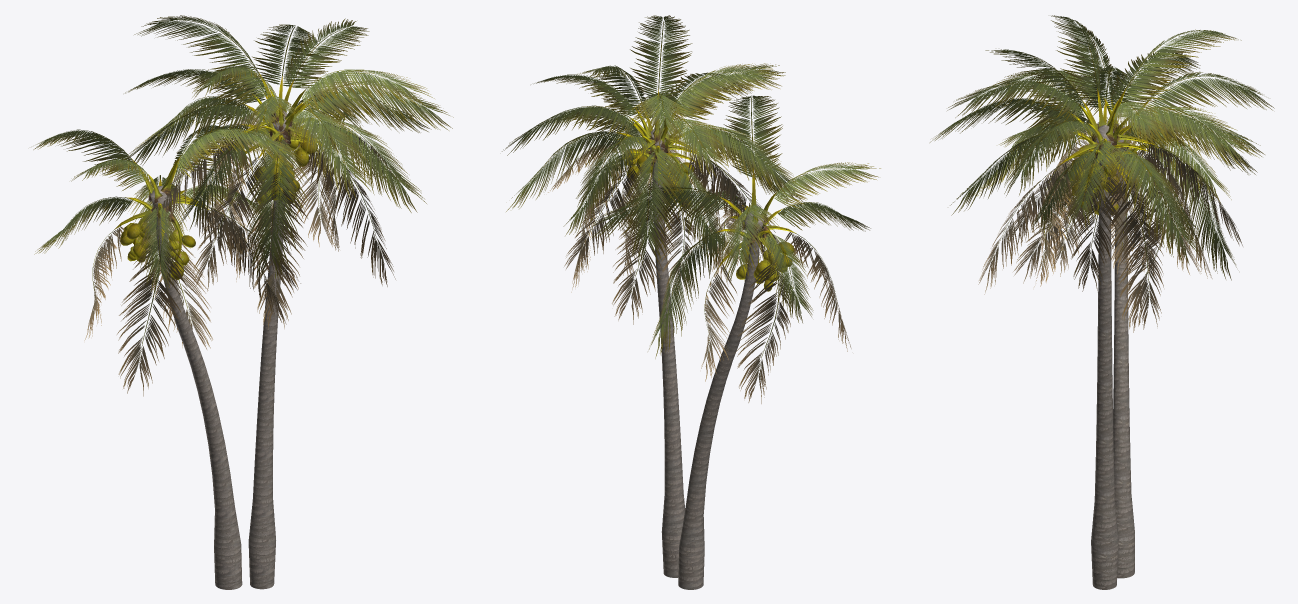
Rendered from coconutpalm.fbx.
3 renders of one model, left to right at view 1: azimuth 30°, elevation 25°; view 2: azimuth 150°, elevation 25°; view 3: azimuth 270°, elevation 25°, orthographic. The views are drawn at different scales.
Visible parts, largest first — view 1: coconut palm leaf 1_3, coconut palm leaf 2_4, palm02_0, frond stem_1, coconut 2_2; view 2: coconut palm leaf 1_3, coconut palm leaf 2_4, palm02_0, frond stem_1, coconut 2_2; view 3: coconut palm leaf 1_3, coconut palm leaf 2_4, palm02_0, frond stem_1, coconut 2_2.
Boxes of the visible parts, x1,y1,x2,y2 form: coconut palm leaf 1_3: (33,15,453,292); coconut palm leaf 2_4: (84,113,412,396); palm02_0: (150,110,287,589); frond stem_1: (114,73,326,260); coconut 2_2: (120,129,317,279); coconut palm leaf 1_3: (502,15,880,358); coconut palm leaf 2_4: (548,140,851,403); palm02_0: (650,128,763,589); frond stem_1: (613,88,795,267); coconut 2_2: (626,148,794,291); coconut palm leaf 1_3: (930,15,1274,280); coconut palm leaf 2_4: (978,117,1242,332); palm02_0: (1091,125,1134,589); frond stem_1: (1060,87,1158,183); coconut 2_2: (1069,148,1142,215).
Bounding box in the file's own units: 437 × 599 × 369.
Materials: 5 (5 with a texture image).
